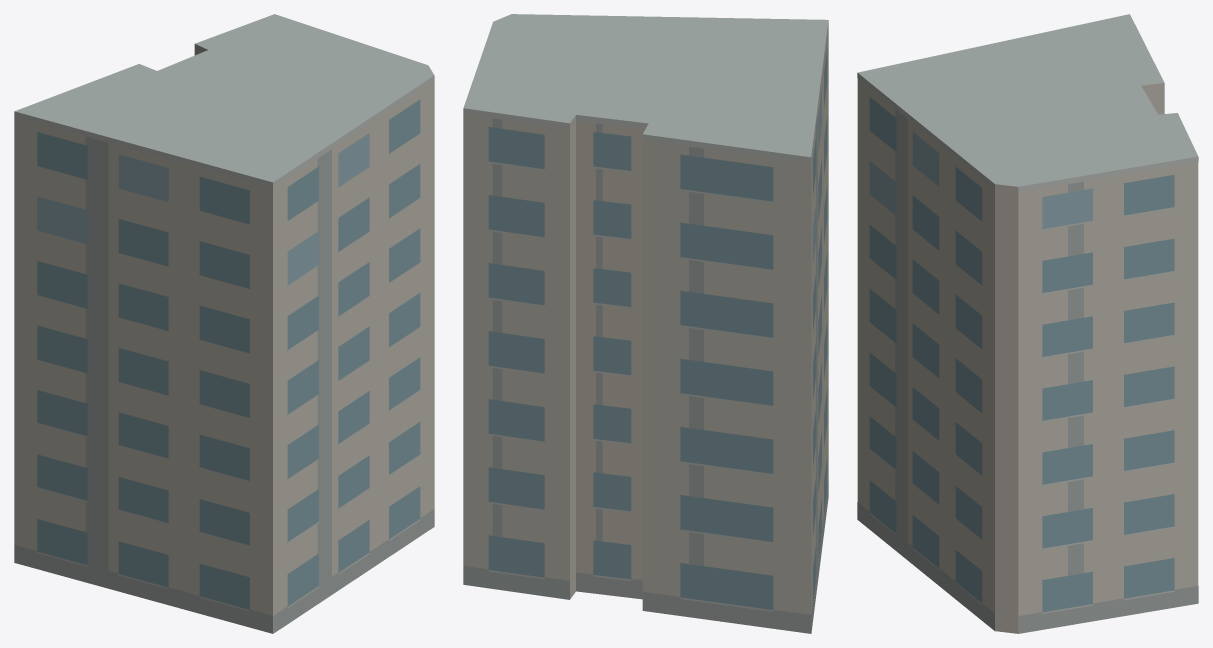
File: survey-upis-32818976.glb
The picture shows the model from 3 angles, left to right: view 1: azimuth 30°, elevation 25°; view 2: azimuth 150°, elevation 25°; view 3: azimuth 270°, elevation 25°; orthographic projection. The views are drawn at different scales.
Visible parts, largest first — view 1: survey-upis-32818976.tmp; view 2: survey-upis-32818976.tmp; view 3: survey-upis-32818976.tmp.
Boxes of the visible parts, bbox=[...] form: survey-upis-32818976.tmp: bbox=[14, 14, 434, 633]; survey-upis-32818976.tmp: bbox=[463, 14, 828, 633]; survey-upis-32818976.tmp: bbox=[857, 14, 1198, 633].
Size of the model in its own units: 15.85 by 19.1 by 13.21.
